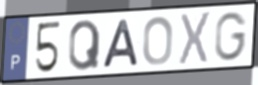5: (34, 20, 63, 75)
A: (99, 18, 141, 70)
G: (214, 11, 249, 63)
O: (141, 15, 175, 67)
Q: (68, 18, 102, 73)
X: (177, 10, 213, 66)
